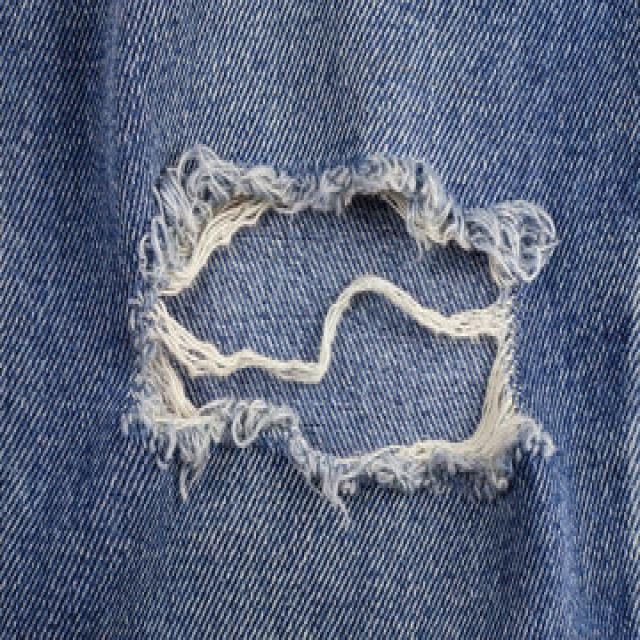Hole: (122, 145, 558, 512)
